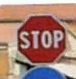stop: (15, 12, 66, 64)
